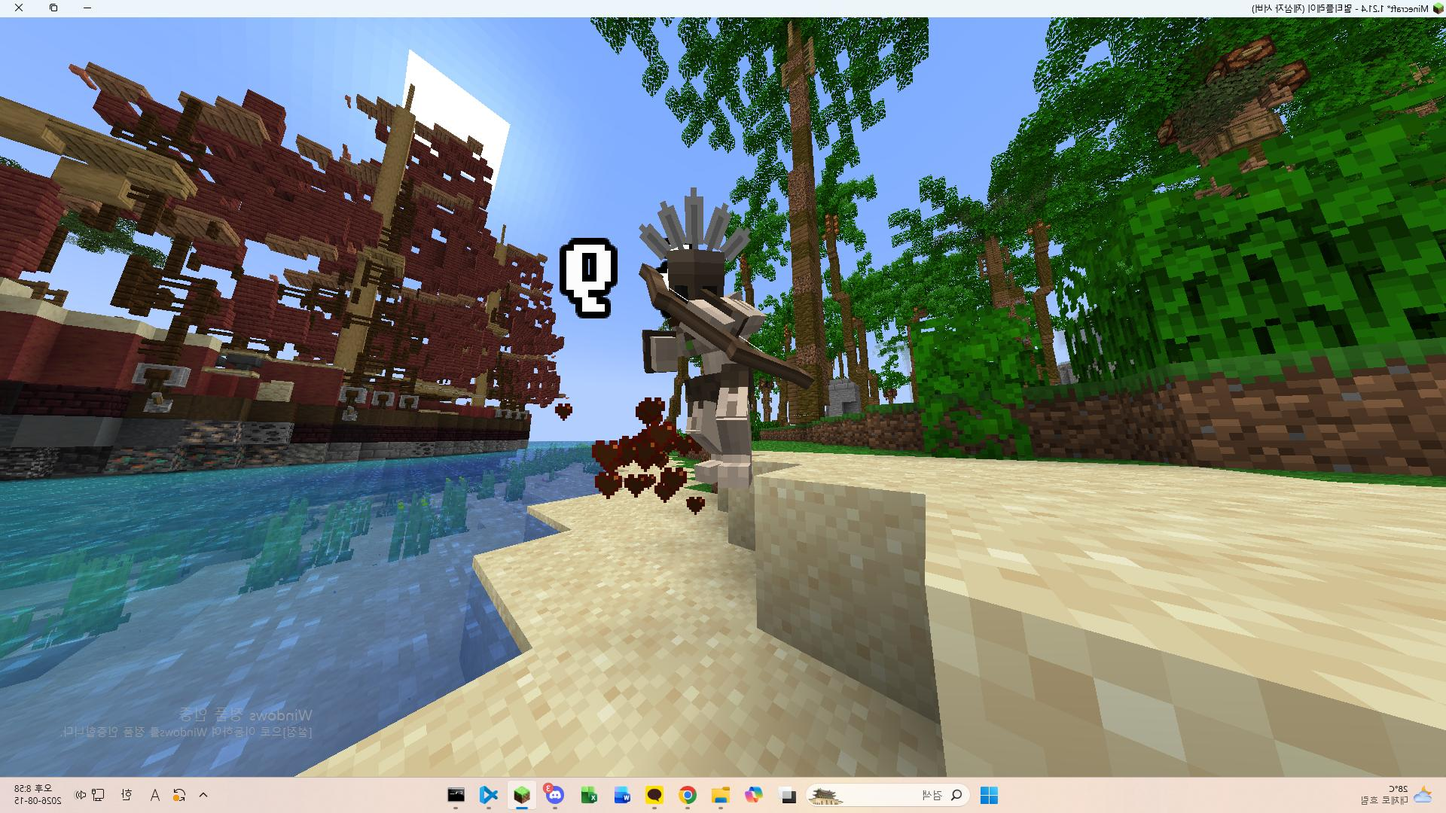bow_indian: (586, 181, 820, 531)
